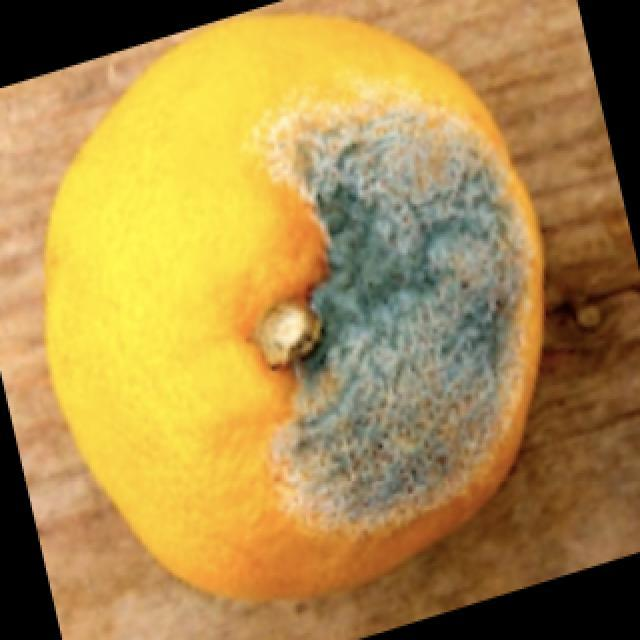sedikit-busuk: (45, 14, 543, 598), (253, 94, 539, 523)
